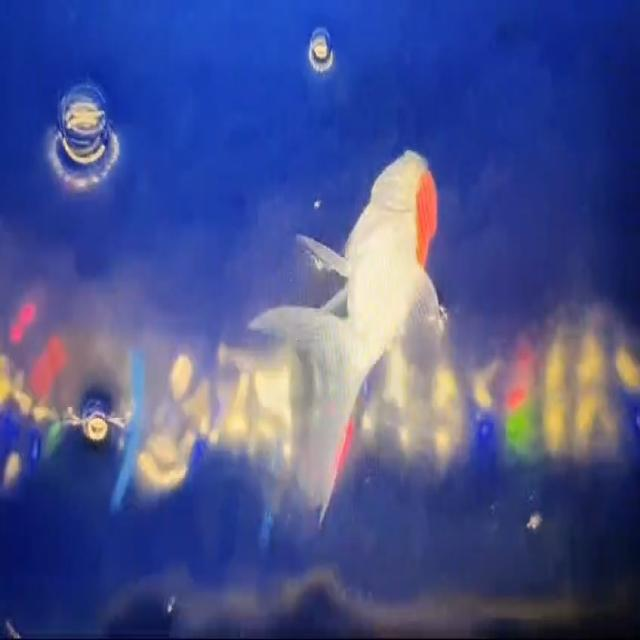fish: (248, 151, 446, 523)
